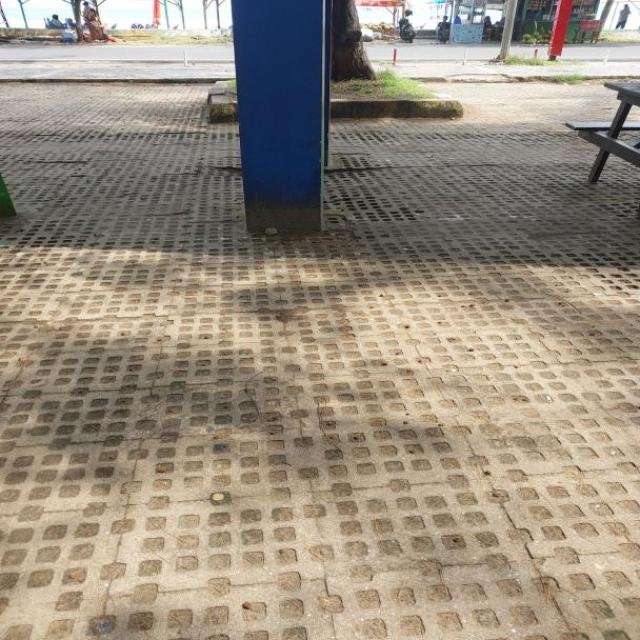pillar ahead at: (218, 0, 334, 231)
